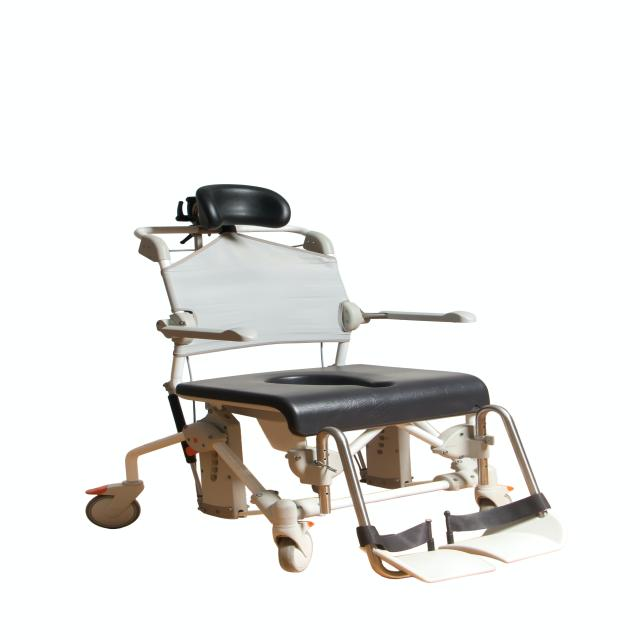wheelchairs: (84, 184, 569, 601)
